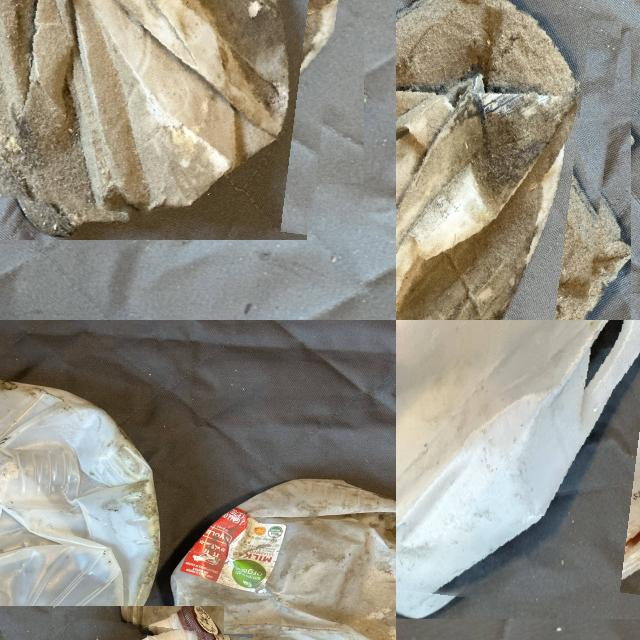milk-jug: (0, 0, 347, 222), (396, 320, 640, 605), (396, 0, 611, 320), (0, 382, 164, 640), (170, 473, 396, 640)
